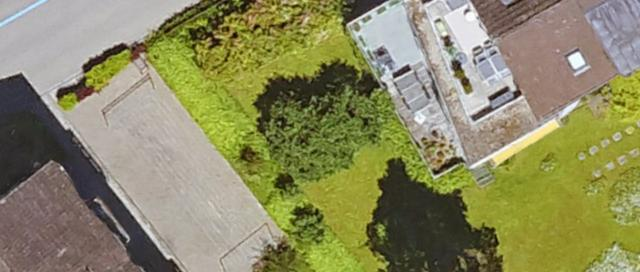tree: (265, 91, 370, 180)
